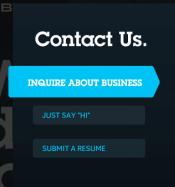button: (32, 105, 146, 127), (32, 138, 146, 159)
